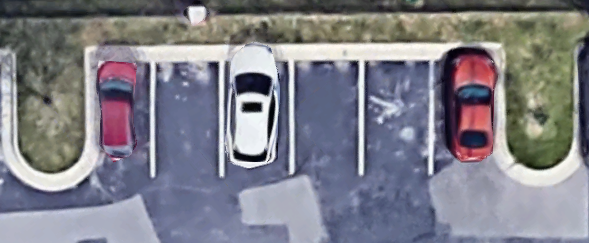Occupied: (221, 57, 292, 175), (431, 58, 497, 175), (92, 57, 153, 177)
Vacant: (361, 57, 431, 175), (154, 57, 222, 177), (292, 57, 361, 175)
